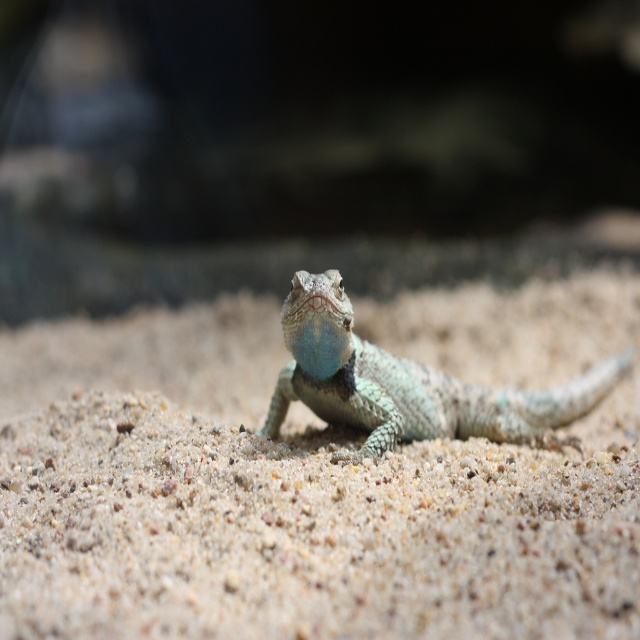Lizard: (260, 266, 631, 468)
